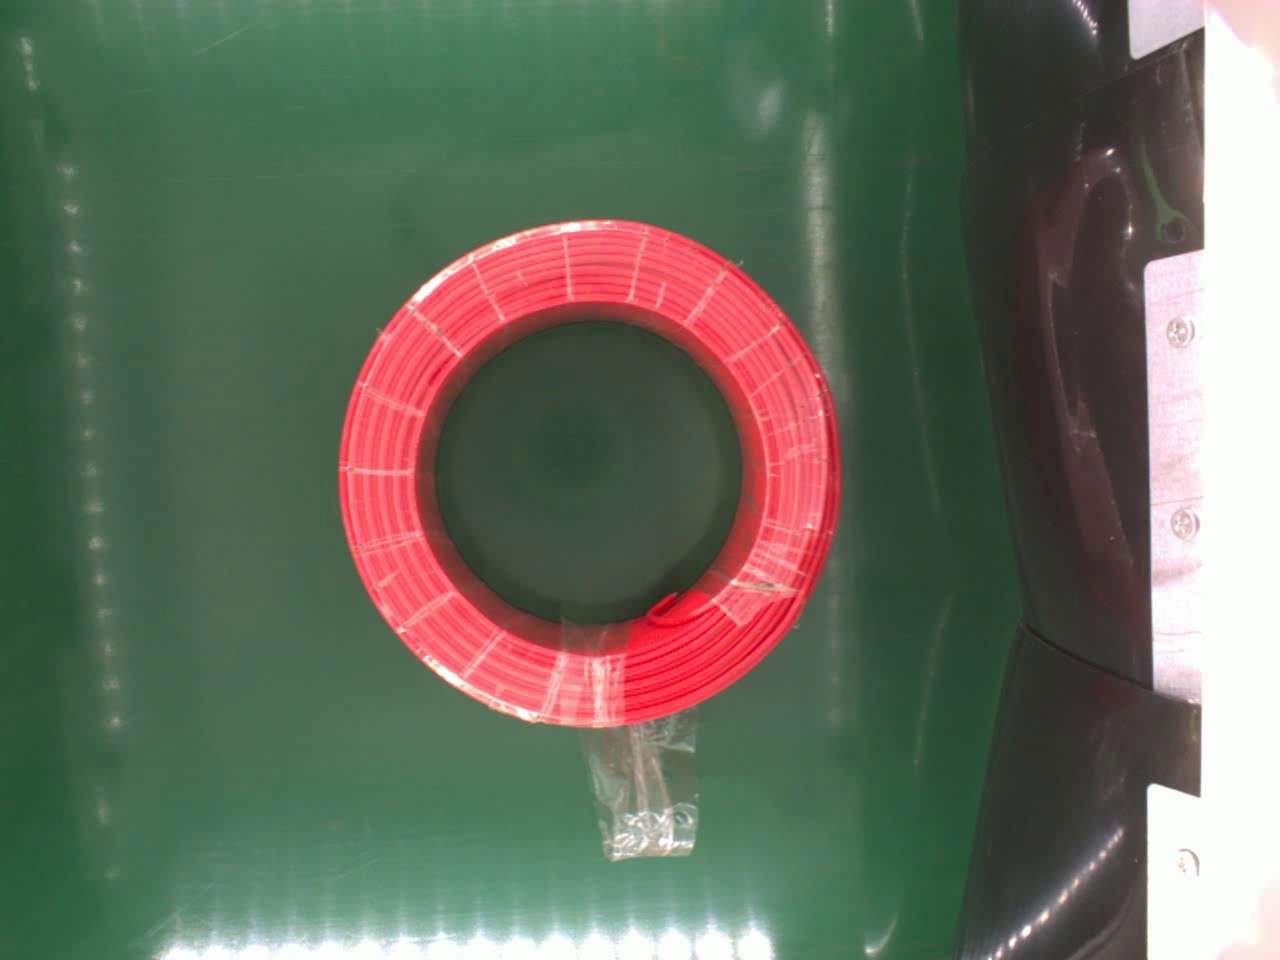red: (334, 214, 844, 727)
